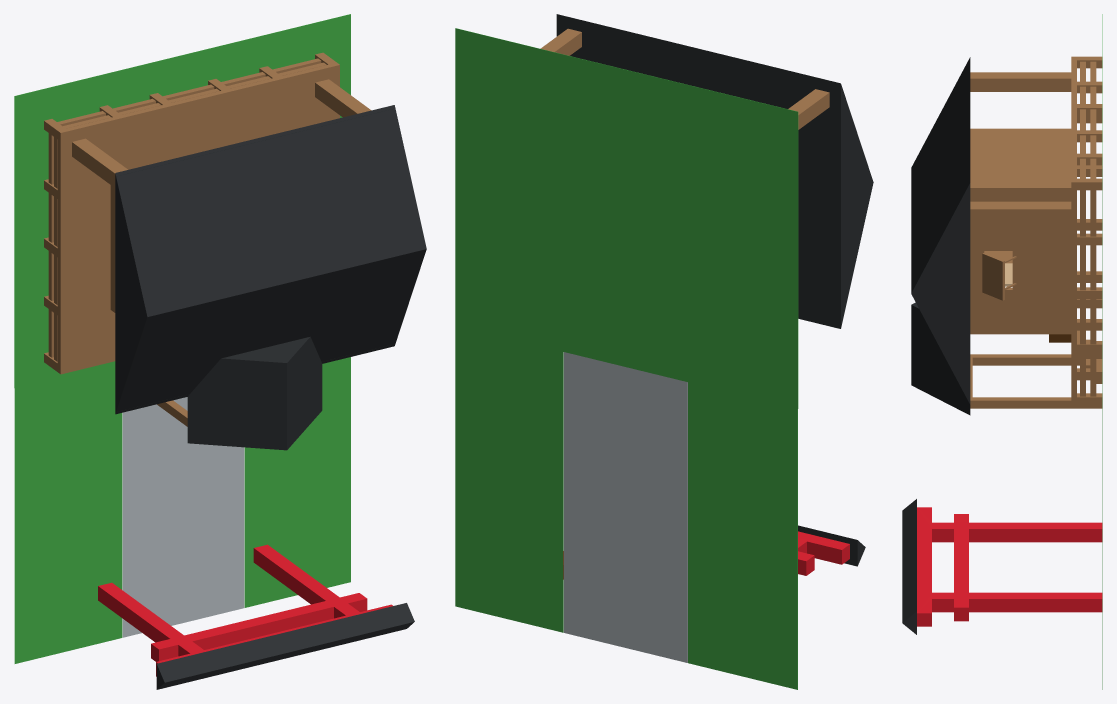
The model's file is tinker.obj.
The picture shows the model from 3 angles, left to right: view 1: azimuth 30°, elevation 25°; view 2: azimuth 150°, elevation 25°; view 3: azimuth 270°, elevation 25°; orthographic projection. The views are drawn at different scales.
Visible parts, largest first — view 1: group_0_2829873, group_0_4634441, group_0_11107152, group_0_12568524, group_0_15277357; view 2: group_0_4634441, group_0_12568524, group_0_2829873, group_0_11107152, group_0_15277357; view 3: group_0_11107152, group_0_2829873, group_0_15277357, group_0_4634441.
Boxes of the visible parts, left/top/right/bottom form: group_0_2829873: left=115, top=105, right=426, bottom=689; group_0_4634441: left=14, top=14, right=350, bottom=663; group_0_11107152: left=44, top=52, right=371, bottom=426; group_0_12568524: left=122, top=397, right=244, bottom=637; group_0_15277357: left=98, top=544, right=392, bottom=676; group_0_4634441: left=455, top=28, right=798, bottom=689; group_0_12568524: left=564, top=352, right=687, bottom=662; group_0_2829873: left=556, top=14, right=873, bottom=566; group_0_11107152: left=540, top=28, right=829, bottom=129; group_0_15277357: left=563, top=531, right=849, bottom=579; group_0_11107152: left=970, top=56, right=1102, bottom=408; group_0_2829873: left=902, top=57, right=970, bottom=634; group_0_15277357: left=917, top=507, right=1102, bottom=626; group_0_4634441: left=1102, top=14, right=1102, bottom=689.
Size of the model in its own units: 242 by 390 by 135.
